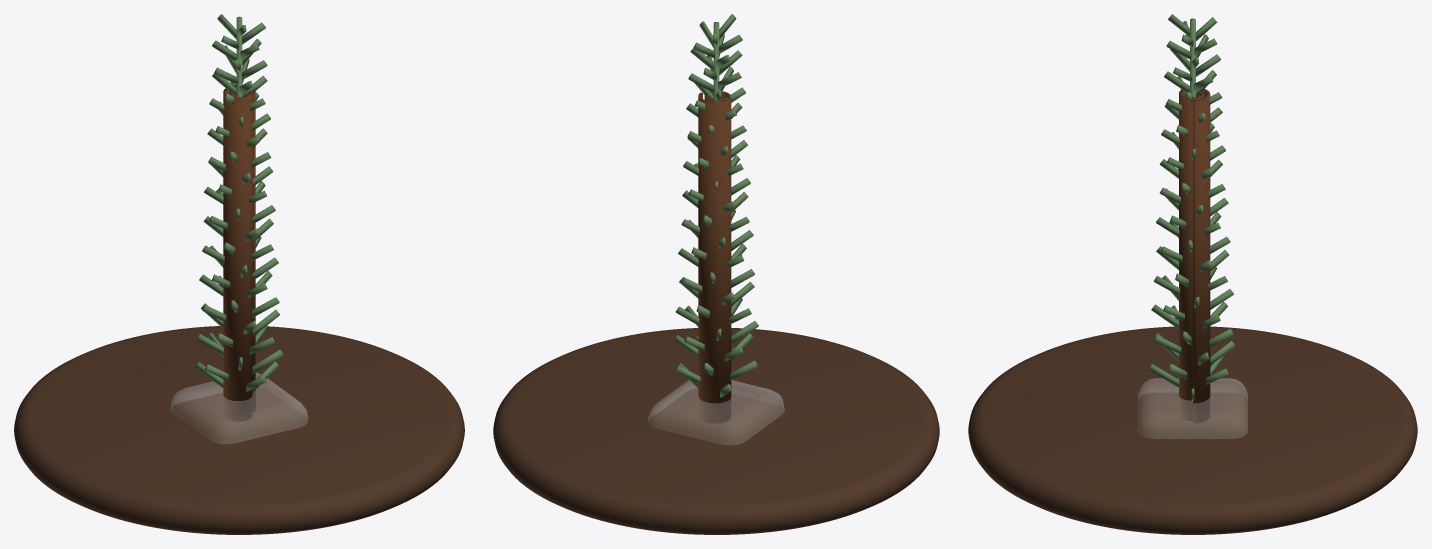
File: props.glb
3 renders of one model, left to right at view 1: azimuth 30°, elevation 25°; view 2: azimuth 150°, elevation 25°; view 3: azimuth 270°, elevation 25°, orthographic.
Parts seen in each view (by area): view 1: prop_Coaster, prop_Rosemary, prop_Cinnamon, prop_Ice; view 2: prop_Coaster, prop_Cinnamon, prop_Rosemary, prop_Ice; view 3: prop_Coaster, prop_Cinnamon, prop_Rosemary, prop_Ice.
Part boxes in pixels (<box>): prop_Coaster: <box>14,326,464,534</box>; prop_Rosemary: <box>195,14,283,391</box>; prop_Cinnamon: <box>223,85,255,421</box>; prop_Ice: <box>171,373,307,443</box>; prop_Coaster: <box>493,328,939,534</box>; prop_Cinnamon: <box>698,91,731,423</box>; prop_Rosemary: <box>673,14,758,397</box>; prop_Ice: <box>648,380,784,444</box>; prop_Coaster: <box>968,326,1417,534</box>; prop_Cinnamon: <box>1179,89,1210,423</box>; prop_Rosemary: <box>1148,14,1235,401</box>; prop_Ice: <box>1138,378,1247,438</box>.
Size of the model in its own units: 0.11 by 0.1291 by 0.11.
